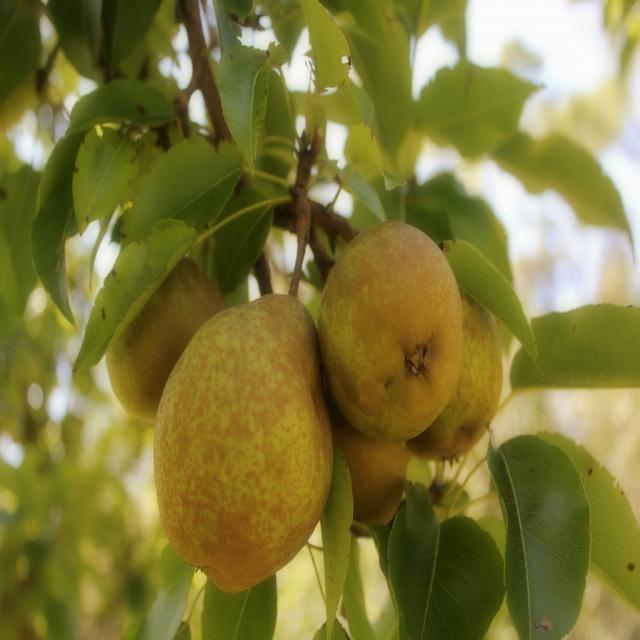Pear: (151, 290, 331, 594), (317, 216, 462, 446), (102, 252, 232, 426), (406, 286, 504, 467), (323, 406, 409, 536)
